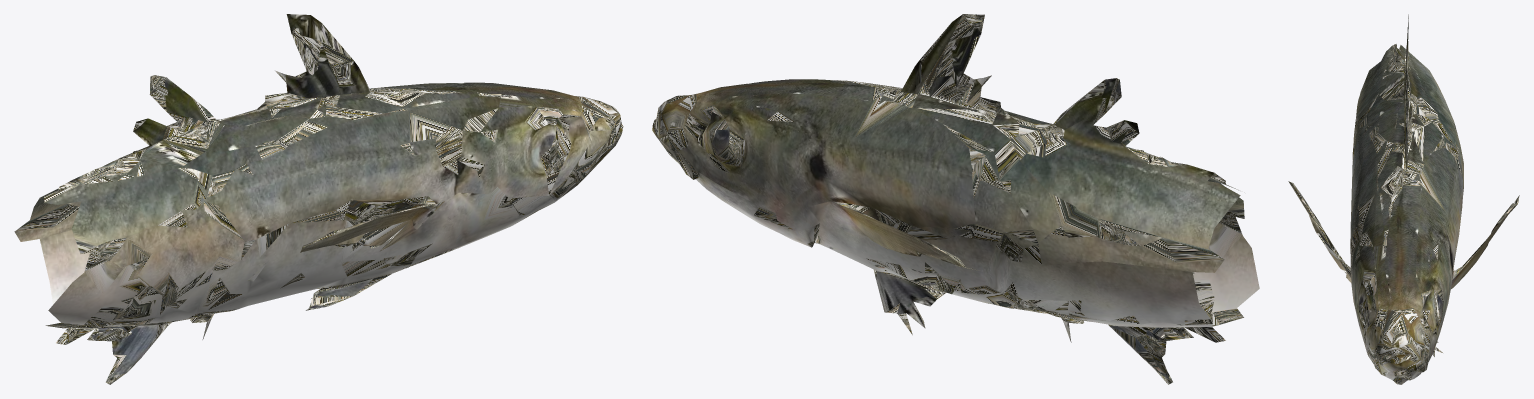
The model's file is scad_a.glb.
3 renders of one model, left to right at view 1: azimuth 30°, elevation 25°; view 2: azimuth 150°, elevation 25°; view 3: azimuth 270°, elevation 25°, orthographic. The views are drawn at different scales.
Visible parts, largest first — view 1: scad_a; view 2: scad_a; view 3: scad_a.
Part boxes in pixels (x1,y1,x2,y2): scad_a: [14, 14, 623, 384]; scad_a: [652, 14, 1259, 384]; scad_a: [1288, 14, 1519, 384].
Size of the model in its own units: 0.2179 by 0.1152 by 0.0823.
Materials: 1 (1 with a texture image).
